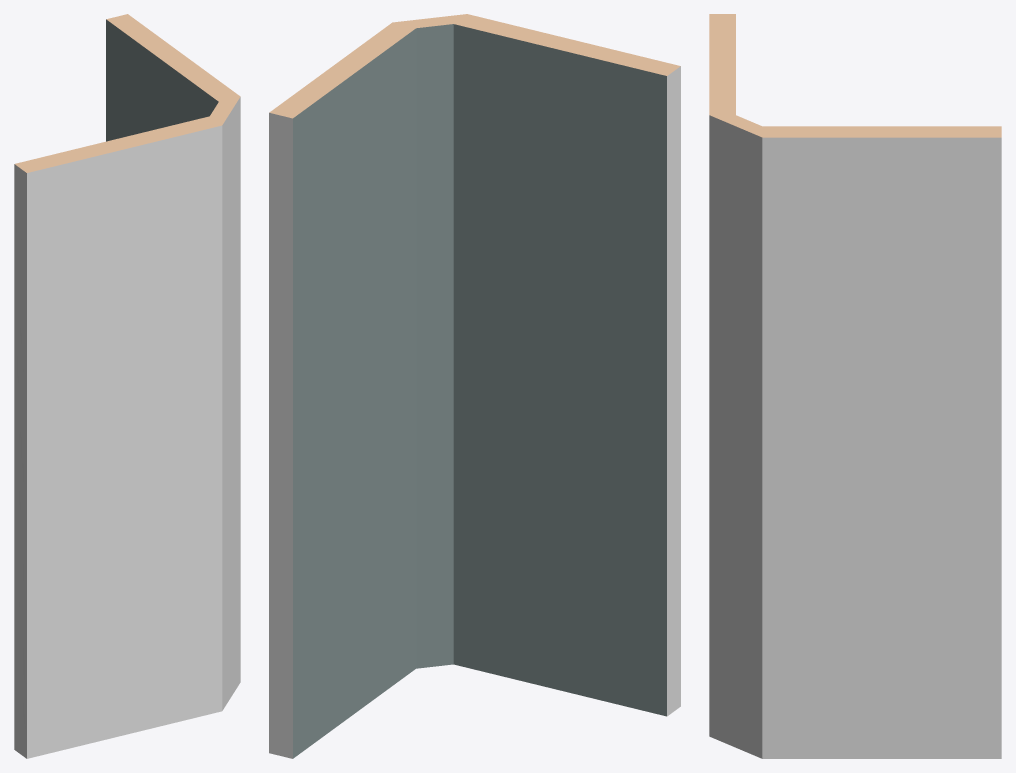
The model's file is wallCorner.gltf.
3 views of the same model, side by side, from view 1: azimuth 30°, elevation 25°; view 2: azimuth 150°, elevation 25°; view 3: azimuth 270°, elevation 25° (orthographic). The views are drawn at different scales.
Visible parts, largest first — view 1: wallCorner(Clone); view 2: wallCorner(Clone); view 3: wallCorner(Clone).
Part boxes in pixels (x1,y1,x2,y2): wallCorner(Clone): [14, 14, 240, 758]; wallCorner(Clone): [269, 14, 680, 758]; wallCorner(Clone): [709, 14, 1001, 758].
Bounding box in the file's own units: 0.55 × 1.29 × 0.55.
